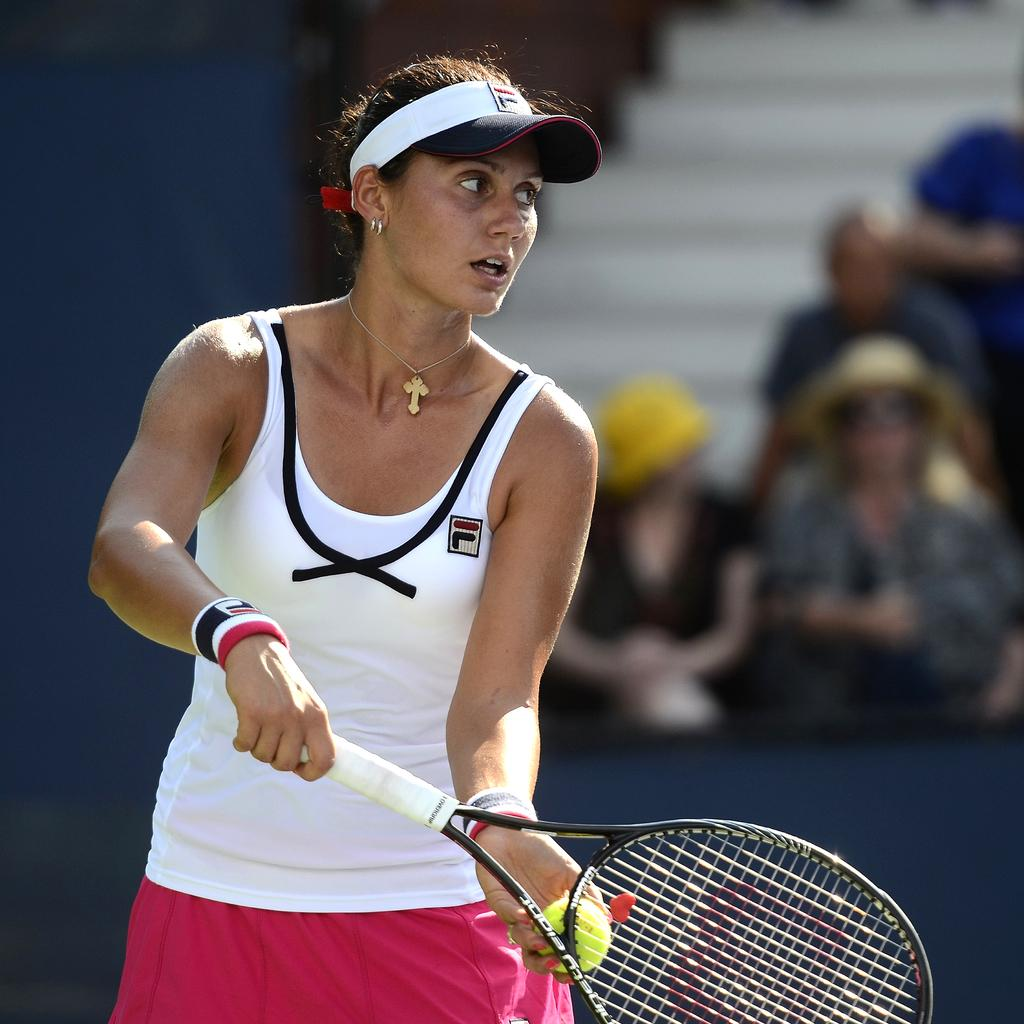Hat: (786, 340, 958, 464)
